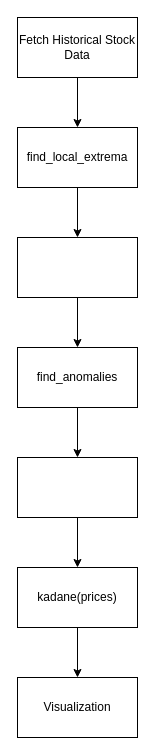
The diagram is 155 pixels wide and 755 high, and some of its shapes have lost their labels. Here are the shapes that lost their labels. From the top down, the centre of each, then its label:
the point at 77,267: get_top_local_gains
the point at 77,487: closest_pair
